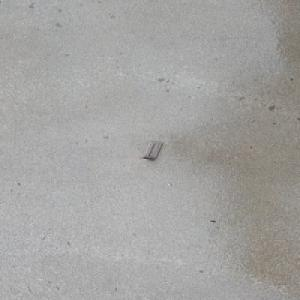MetalPart: (138, 140, 164, 161)
